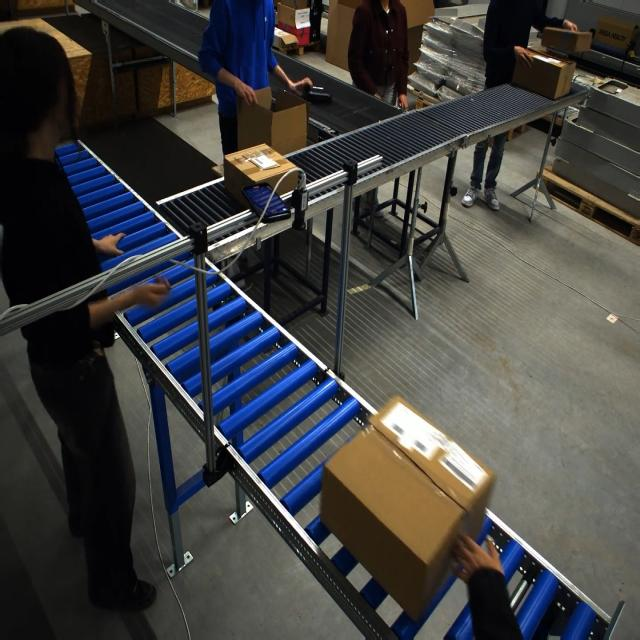box: (327, 405, 489, 617), (236, 83, 308, 163), (224, 143, 299, 208), (511, 45, 577, 100), (541, 26, 592, 54)
